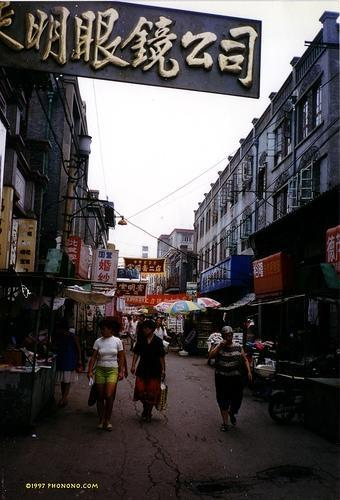motorcycle: (260, 384, 329, 424)
